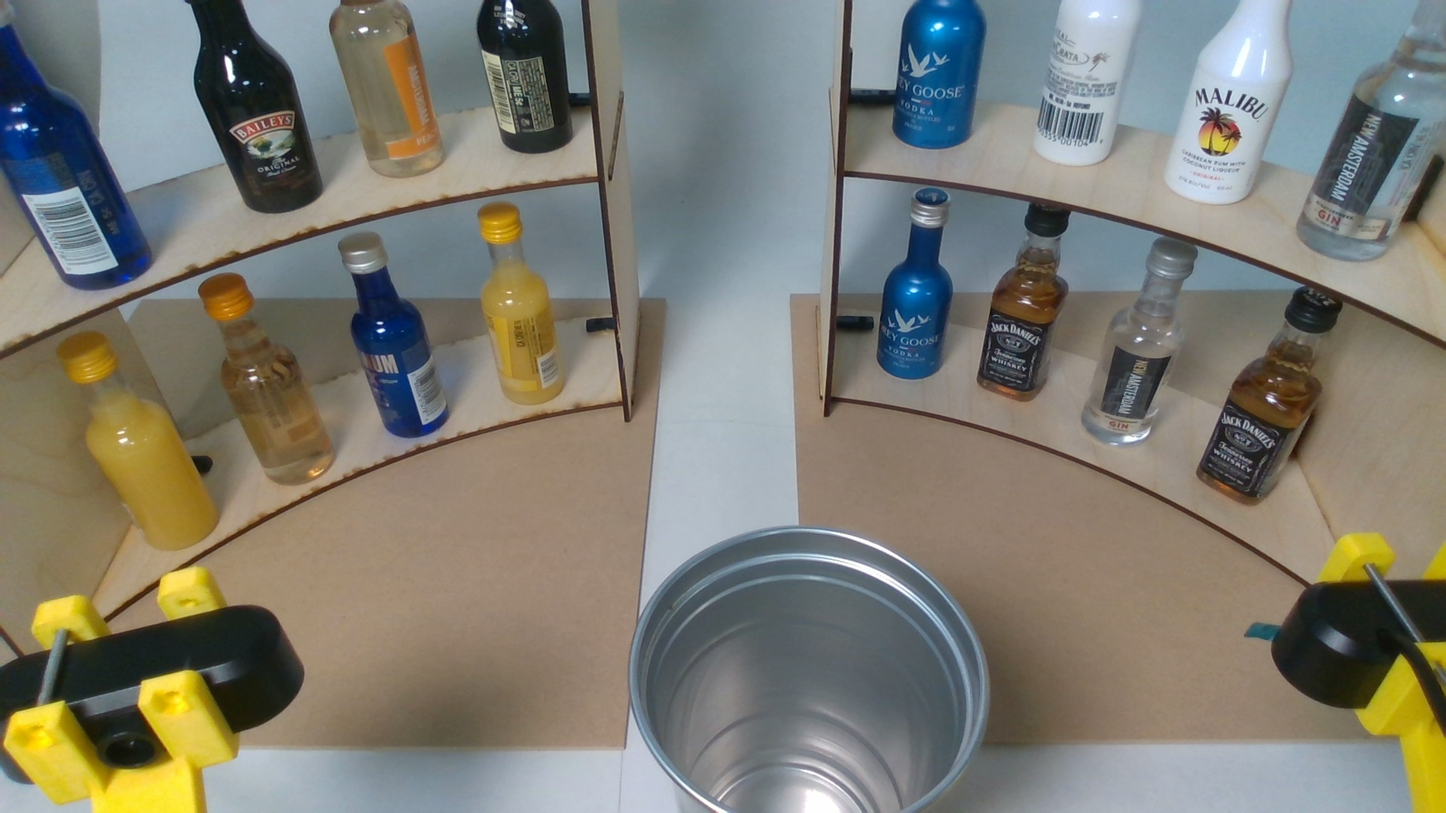coke: (188, 0, 324, 214), (477, 0, 576, 153)
gin: (1299, 0, 1446, 263), (1083, 234, 1197, 446)
ginger_beer: (199, 275, 334, 485), (327, 0, 448, 180)
orange_juice: (59, 334, 224, 548), (476, 202, 568, 404)
tequila: (1169, 0, 1294, 206)
tonic_water: (0, 0, 154, 289), (342, 236, 451, 445)
vodka: (880, 189, 953, 381), (891, 0, 980, 151)
whiskey: (1200, 283, 1340, 504), (981, 200, 1068, 401)
